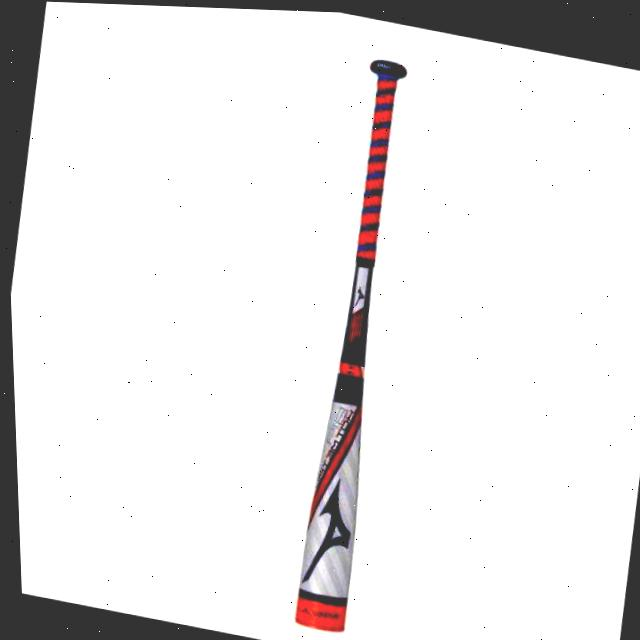baseball bat: (220, 24, 501, 640)
